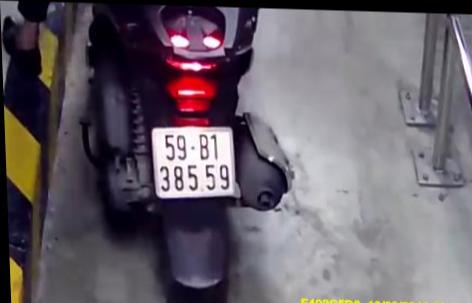LP: (149, 122, 236, 202)
